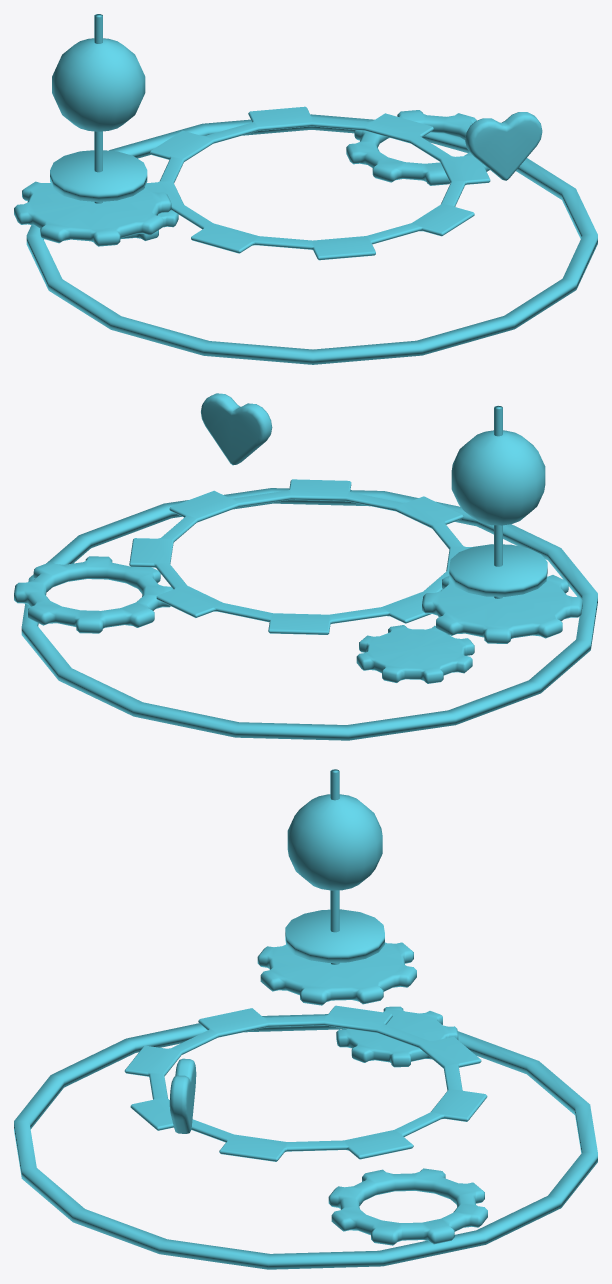
Rendered from WABD_backgrounds_mainmachine_down_animation_lo.fbx.
The picture shows the model from 3 angles, top to bottom: view 1: azimuth 30°, elevation 25°; view 2: azimuth 150°, elevation 25°; view 3: azimuth 270°, elevation 25°; orthographic projection. The views are drawn at different scales.
Parts seen in each view (by area): view 1: mainmachine_under_lo; view 2: mainmachine_under_lo; view 3: mainmachine_under_lo.
Part boxes in pixels (x1,y1,x2,y2): mainmachine_under_lo: (14,14,597,364); mainmachine_under_lo: (14,393,597,740); mainmachine_under_lo: (14,769,597,1269).
Bounding box in the file's own units: 469 × 231 × 446.
